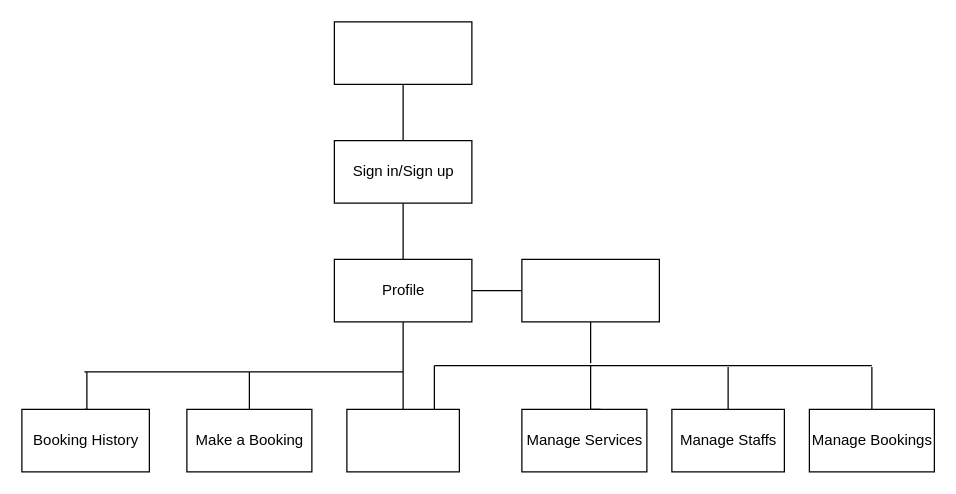
Image size: 956x494. Some labels were removed from this diagram. Here are the shapes that lost their labels. From the top down, the centre of each, then its label:
point 402,52: Home Activity
point 590,290: Admin
point 402,440: Manage Profile
